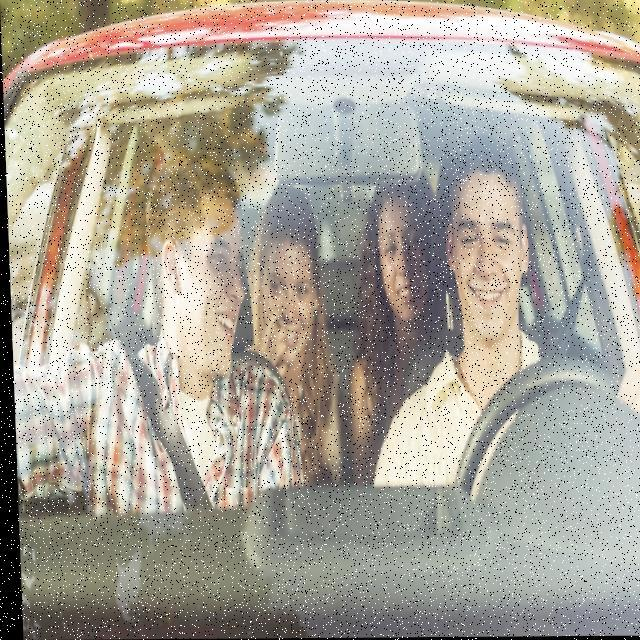seatbelt: (81, 322, 278, 528)
